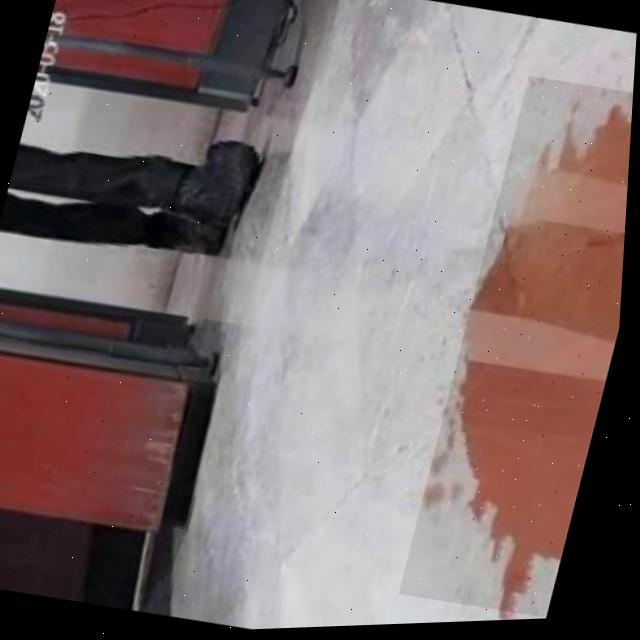spillage: (468, 112, 634, 616)
